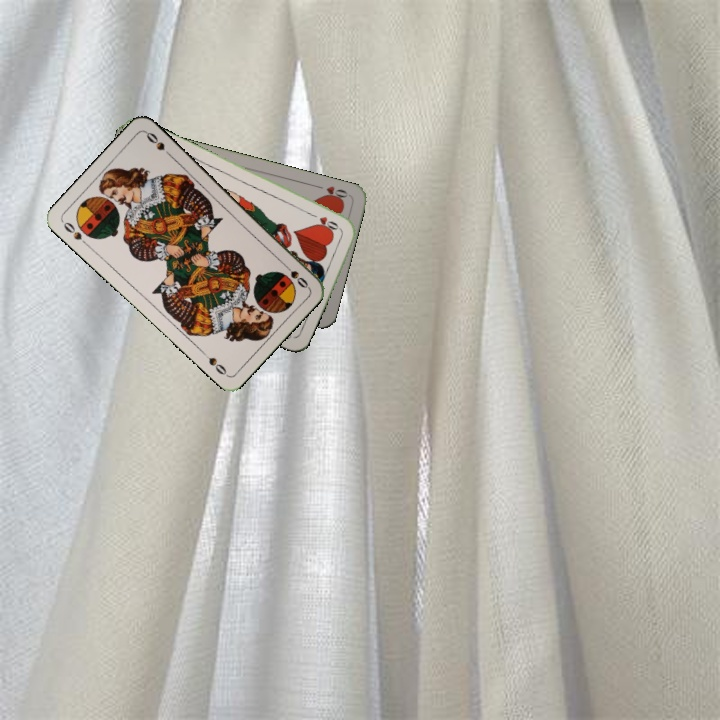HO: (312, 181, 352, 204), (306, 209, 344, 233)
SO: (278, 258, 311, 291), (59, 218, 91, 249)
